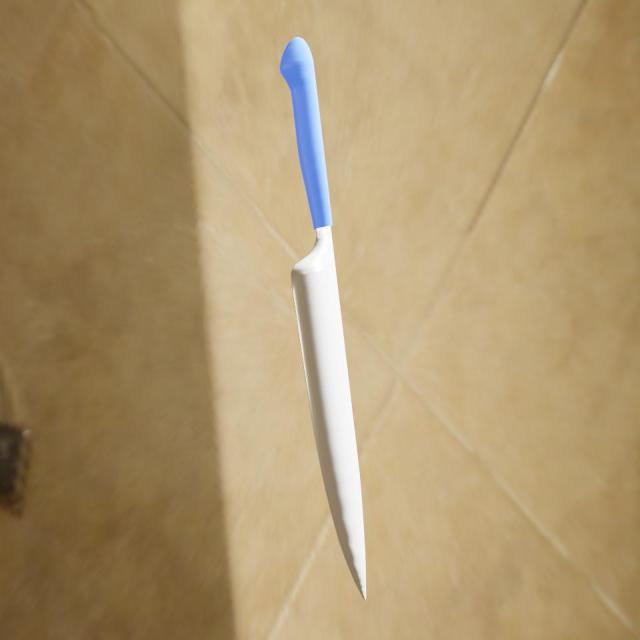knife: (279, 37, 333, 234)
